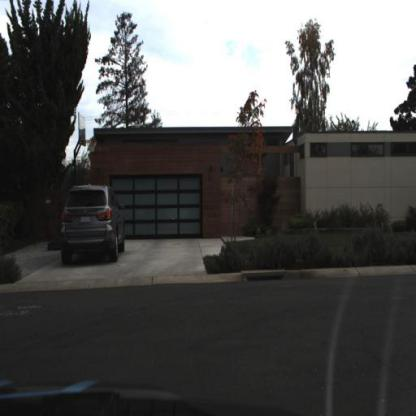car: (55, 184, 128, 265)
